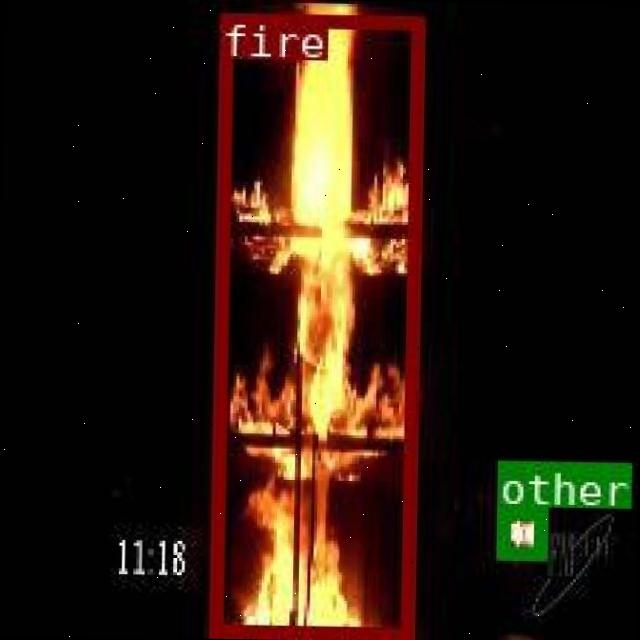fire: (206, 10, 420, 636)
